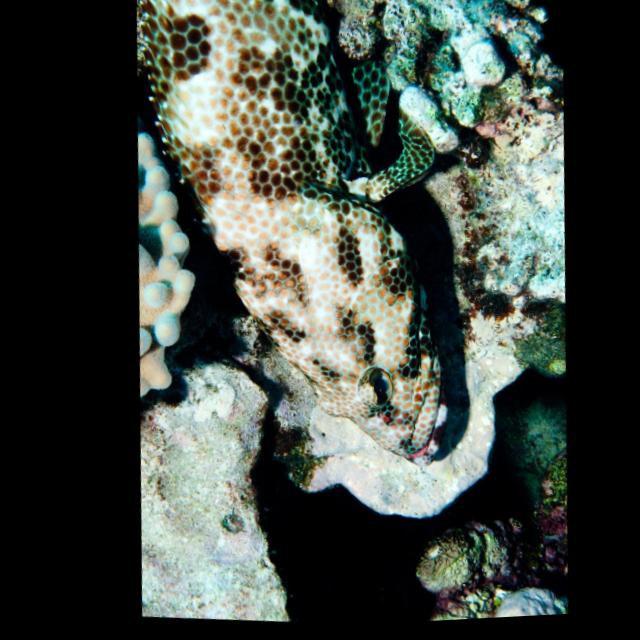Groupers: (94, 0, 486, 482)
